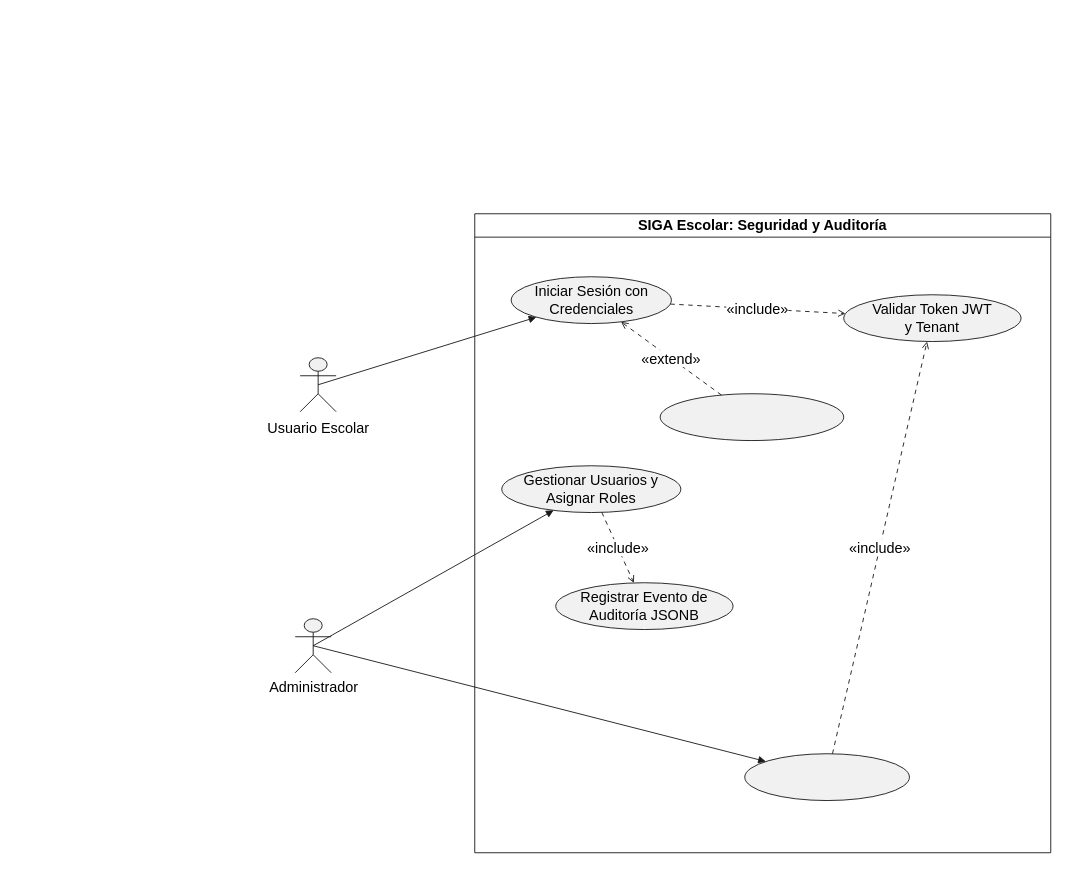
Image size: 1067x869. Some labels were removed from this diagram. The centre of each missing label's shape, as x and y in pixels:
"Bloquear Cuenta por Fuerza Bruta" belongs at [751,417].
"Consultar Bitácora de Auditoría" belongs at [826,777].
